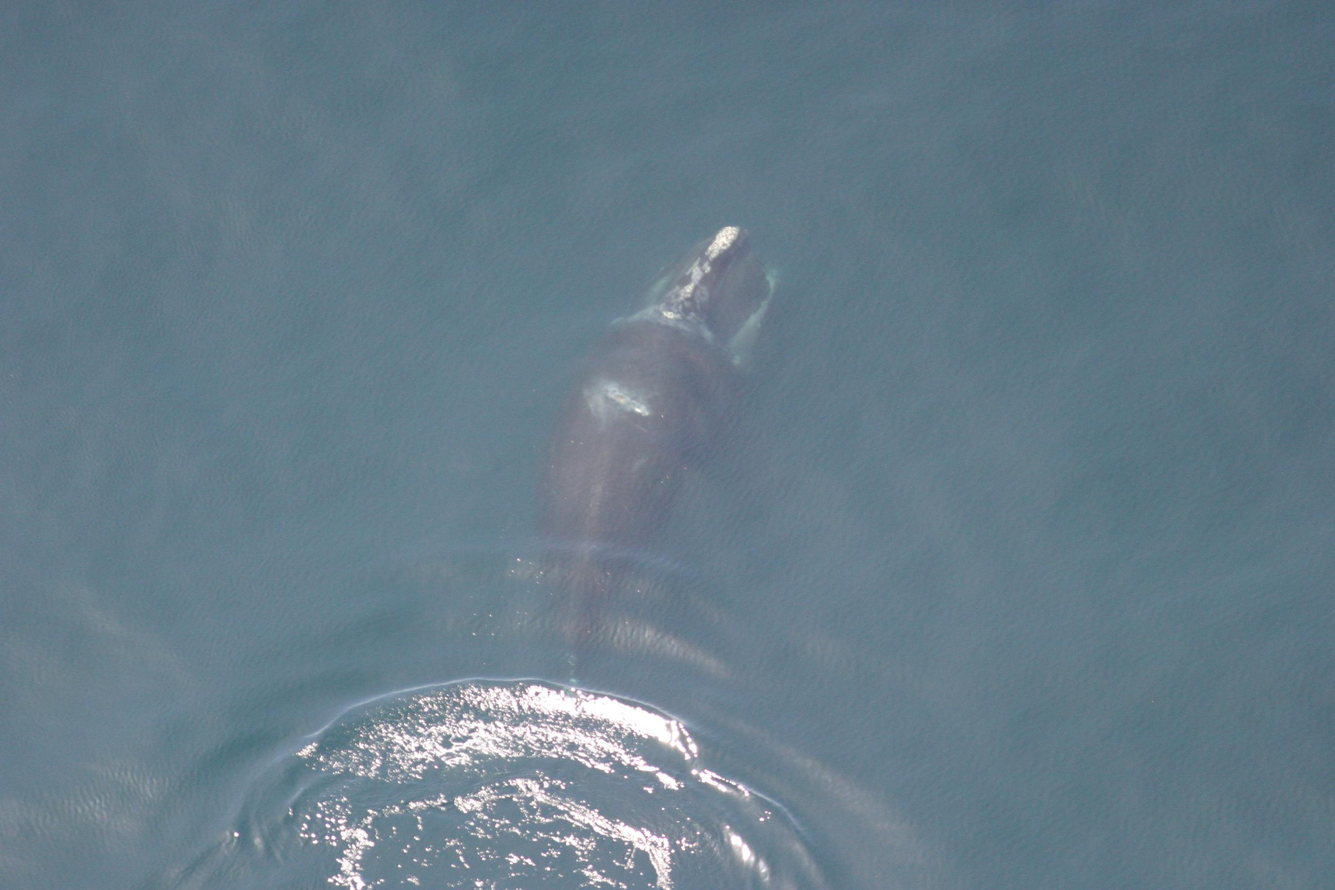whale: (448, 205, 797, 764)
